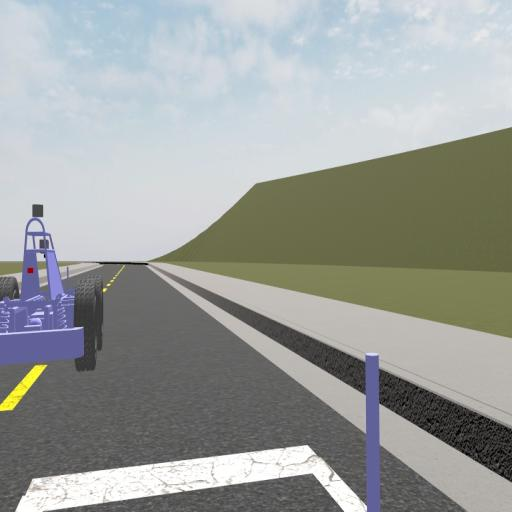ERP-42: (2, 204, 104, 373)
